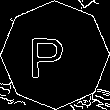P_N: (36, 29, 74, 81)
